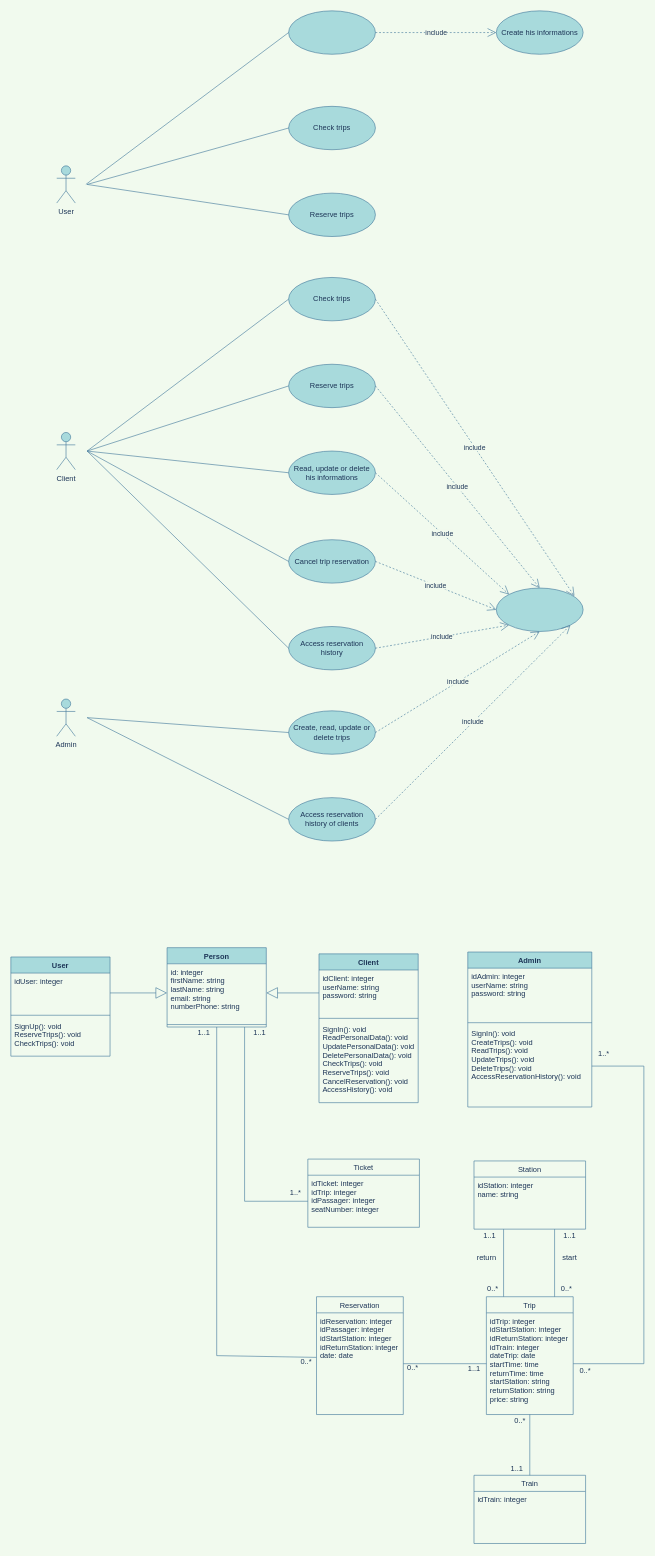
This 655x1556 diagram has some shape labels left out. Each missing label, with the centre of its shape:
Sign in: (x=539, y=609)
Sign up: (x=331, y=32)
